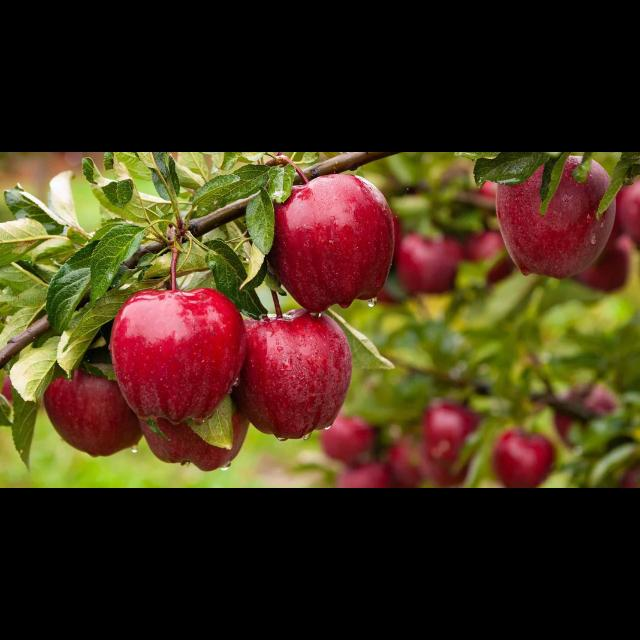Apel Segar: (222, 292, 374, 454), (258, 180, 412, 320), (478, 158, 632, 298), (120, 282, 246, 432)
